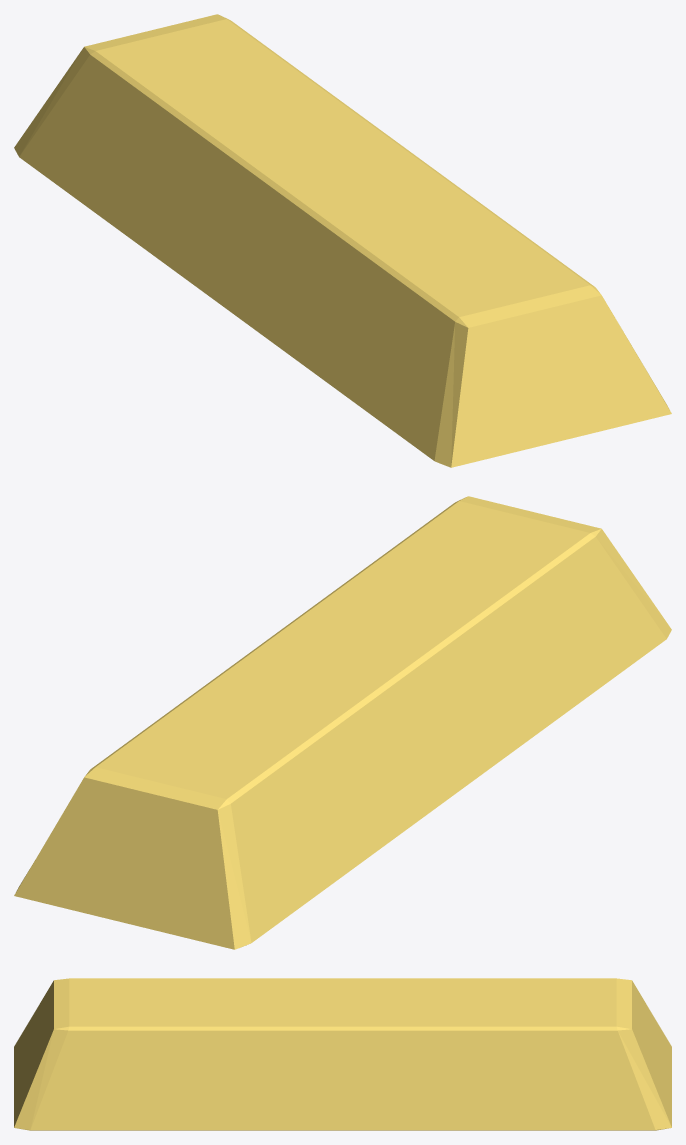
File: GoldIngot.fbx
3 renders of one model, top to bottom at view 1: azimuth 30°, elevation 25°; view 2: azimuth 150°, elevation 25°; view 3: azimuth 270°, elevation 25°, orthographic. The views are drawn at different scales.
Parts seen in each view (by area): view 1: Ingot; view 2: Ingot; view 3: Ingot.
Part boxes in pixels (bbox=[...]): Ingot: bbox=[14, 14, 671, 467]; Ingot: bbox=[14, 496, 671, 949]; Ingot: bbox=[14, 978, 671, 1130].
Bounding box in the file's own units: 16.82 × 8 × 54.83.
